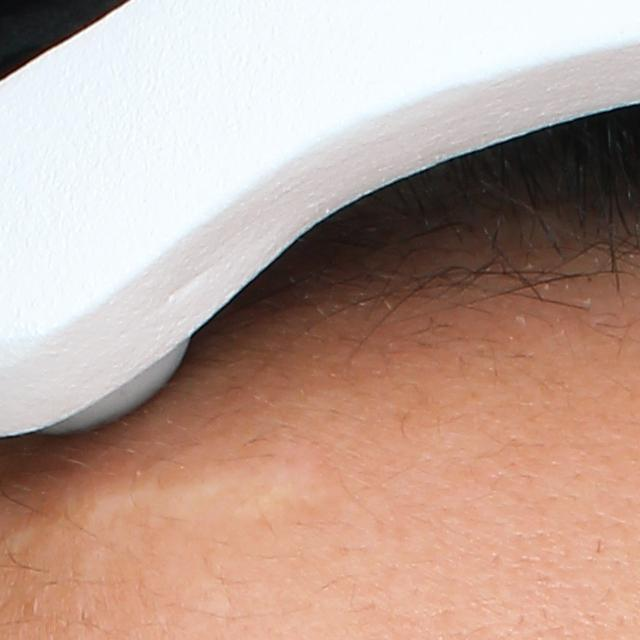other: (48, 440, 354, 551)
